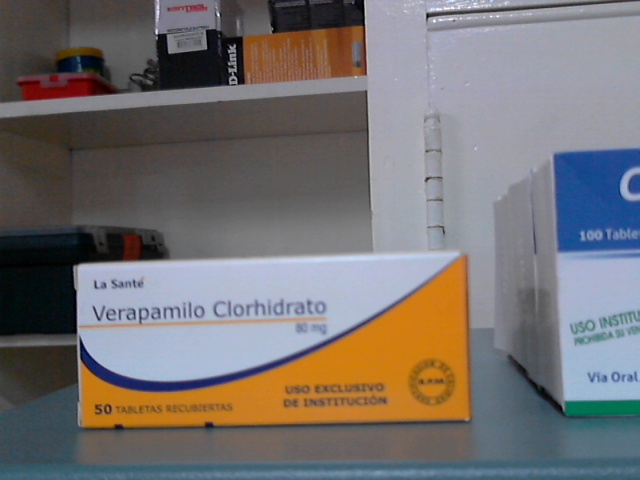LaSante: (79, 262, 469, 421)
